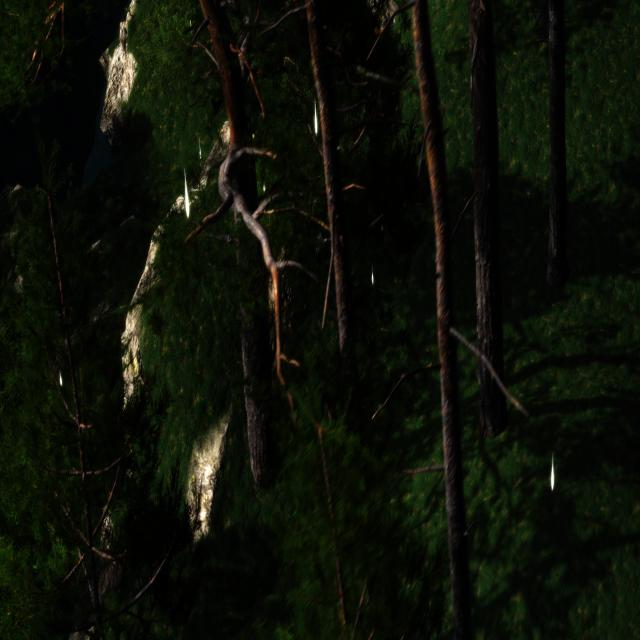Human: (198, 11, 262, 113)
